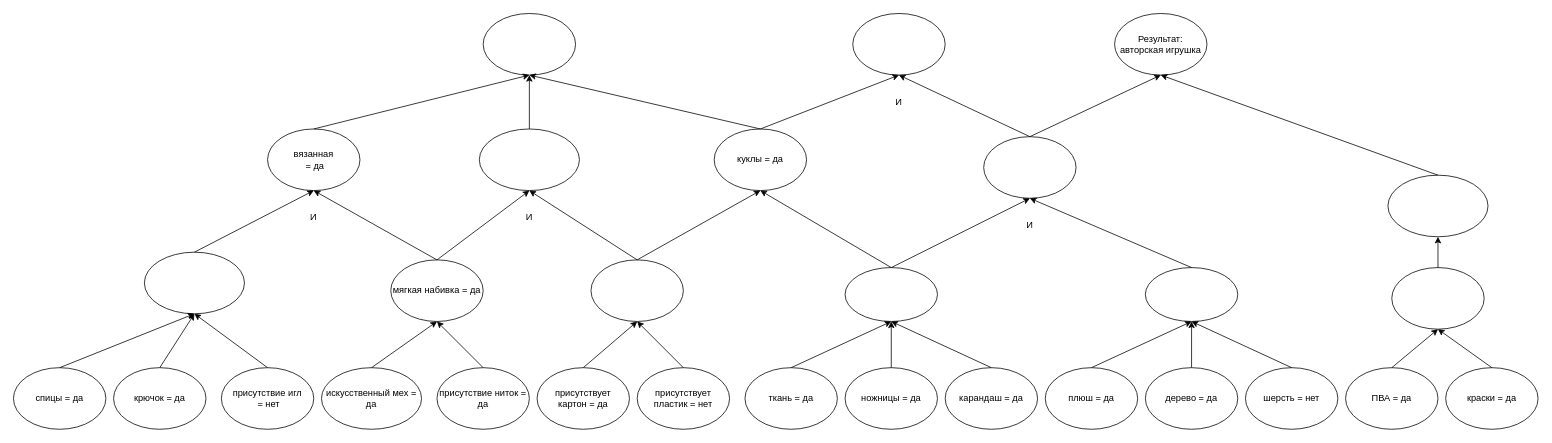
The diagram is 1552 pixels wide and 443 high, and some of its shapes have lost their labels. Each missing label, with the centre of its shape:
выкройка = да: the point at 890,294
грунтованный текстиль = да: the point at 1437,298
имеется лекало = да: the point at 636,290
опилки = да: the point at 1191,294
плюшевая = да: the point at 529,159
Результат: Игровая игрушка: the point at 529,44
Результат: Художественная и интерьерная игрушка: the point at 898,44
схема для вязания = да: the point at 194,282
тедди = да: the point at 1029,167
текстильная = да: the point at 1437,205
